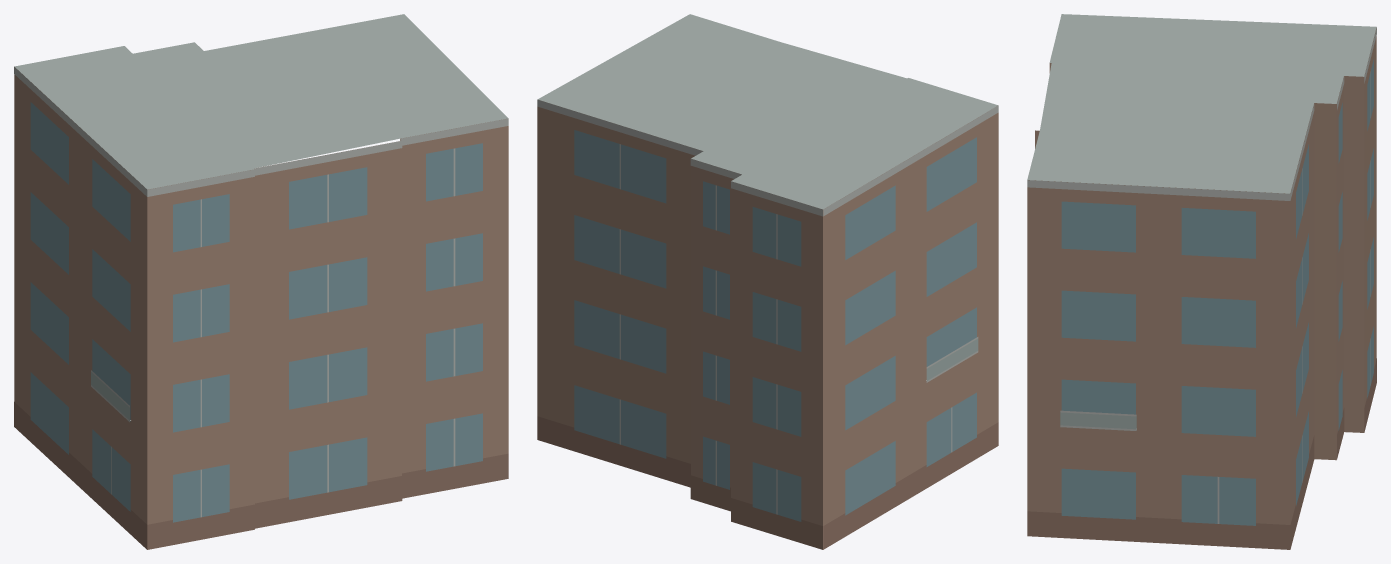
The model's file is survey-upis-32816591.glb.
3 views of the same model, side by side, from view 1: azimuth 30°, elevation 25°; view 2: azimuth 150°, elevation 25°; view 3: azimuth 270°, elevation 25° (orthographic). The views are drawn at different scales.
Parts seen in each view (by area): view 1: survey-upis-32816591.tmp; view 2: survey-upis-32816591.tmp; view 3: survey-upis-32816591.tmp.
Part boxes in pixels (box(x1,y1,x2,y2)): survey-upis-32816591.tmp: box(14, 14, 508, 549); survey-upis-32816591.tmp: box(537, 14, 998, 549); survey-upis-32816591.tmp: box(1027, 14, 1376, 549).
Size of the model in its own units: 12.74 by 11.76 by 10.47.
